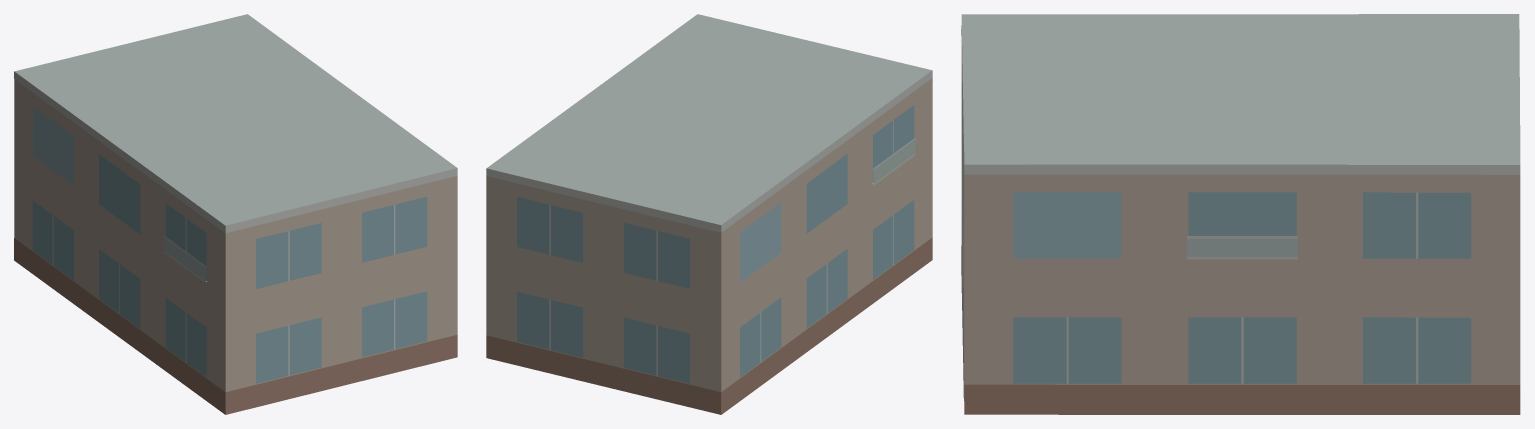
The model's file is survey-upis-32935872.glb.
3 renders of one model, left to right at view 1: azimuth 30°, elevation 25°; view 2: azimuth 150°, elevation 25°; view 3: azimuth 270°, elevation 25°, orthographic. The views are drawn at different scales.
Visible parts, largest first — view 1: survey-upis-32935872.tmp; view 2: survey-upis-32935872.tmp; view 3: survey-upis-32935872.tmp.
Boxes of the visible parts, x1=… form: survey-upis-32935872.tmp: x1=14, y1=14, x2=457, y2=414; survey-upis-32935872.tmp: x1=486, y1=14, x2=932, y2=414; survey-upis-32935872.tmp: x1=961, y1=14, x2=1520, y2=414.
Size of the model in its own units: 7.96 by 6.1 by 12.37.
